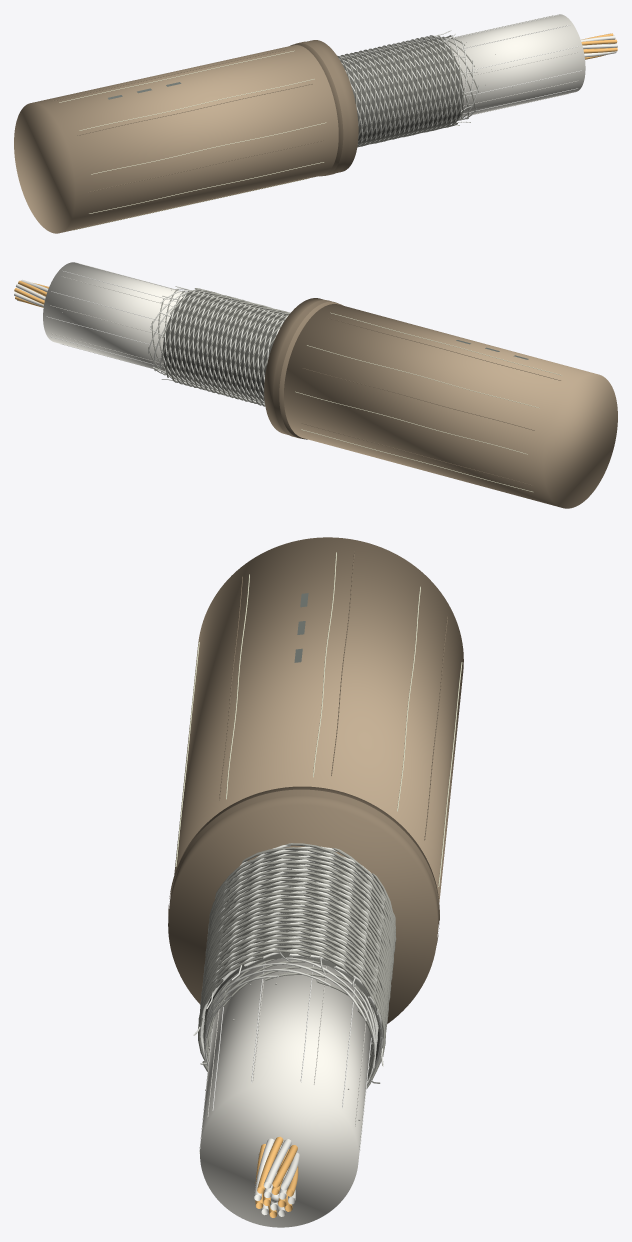
File: rf-rg142-macro.glb
3 renders of one model, top to bottom at view 1: azimuth 30°, elevation 25°; view 2: azimuth 150°, elevation 25°; view 3: azimuth 270°, elevation 25°, orthographic. The views are drawn at different scales.
Parts seen in each view (by area): view 1: macro jacket body, macro dielectric exposed core, shadow seen through braid windows, thick jacket cut wall, rounded jacket cut lip, macro braid shadow carrier 05 strand 1, macro braid shadow carrier 07 strand 1, macro braid shadow carrier 08 strand 1, macro braid shadow carrier 04 strand 1, macro braid shadow carrier 06 strand 1, macro braid shadow carrier 03 strand 1, macro braid shadow carrier 09 strand 1; view 2: macro jacket body, macro dielectric exposed core, shadow seen through braid windows, thick jacket cut wall, rounded jacket cut lip, macro braid shadow carrier 02 strand 1, macro braid shadow carrier 03 strand 1, macro braid shadow carrier 01 strand 1, macro braid shadow carrier 12 strand 1, macro braid shadow carrier 04 strand 1, macro braid shadow carrier 05 strand 1; view 3: macro jacket body, macro dielectric exposed core, thick jacket cut wall, shadow seen through braid windows, rounded jacket cut lip, macro braid shadow carrier 10 strand 2, macro braid shadow carrier 05 strand 2, macro braid shadow carrier 04 strand 2, macro braid shadow carrier 07 strand 2, macro braid shadow carrier 06 strand 2, macro braid shadow carrier 08 strand 2, macro braid shadow carrier 11 strand 2 (+5 smaller).
Boxes of the visible parts, left/top/right/bottom form: macro jacket body: left=14, top=45, right=338, bottom=233; macro dielectric exposed core: left=443, top=14, right=585, bottom=116; shadow seen through braid windows: left=339, top=37, right=463, bottom=144; thick jacket cut wall: left=290, top=40, right=358, bottom=176; rounded jacket cut lip: left=295, top=41, right=349, bottom=175; macro braid shadow carrier 05 strand 1: left=357, top=37, right=436, bottom=147; macro braid shadow carrier 07 strand 1: left=358, top=35, right=446, bottom=145; macro braid shadow carrier 08 strand 1: left=370, top=35, right=451, bottom=144; macro braid shadow carrier 04 strand 1: left=357, top=38, right=432, bottom=146; macro braid shadow carrier 06 strand 1: left=360, top=36, right=441, bottom=146; macro braid shadow carrier 03 strand 1: left=354, top=40, right=427, bottom=143; macro braid shadow carrier 09 strand 1: left=376, top=46, right=455, bottom=142; macro jacket body: left=284, top=304, right=617, bottom=508; macro dielectric exposed core: left=43, top=262, right=185, bottom=371; shadow seen through braid windows: left=163, top=291, right=286, bottom=403; thick jacket cut wall: left=264, top=298, right=343, bottom=439; rounded jacket cut lip: left=273, top=300, right=337, bottom=438; macro braid shadow carrier 02 strand 1: left=175, top=296, right=288, bottom=399; macro braid shadow carrier 03 strand 1: left=170, top=295, right=285, bottom=397; macro braid shadow carrier 01 strand 1: left=180, top=298, right=289, bottom=400; macro braid shadow carrier 12 strand 1: left=184, top=299, right=288, bottom=401; macro braid shadow carrier 04 strand 1: left=166, top=294, right=287, bottom=396; macro braid shadow carrier 05 strand 1: left=161, top=293, right=277, bottom=394; macro jacket body: left=174, top=537, right=463, bottom=901; macro dielectric exposed core: left=200, top=958, right=370, bottom=1227; thick jacket cut wall: left=168, top=786, right=439, bottom=1023; shadow seen through braid windows: left=203, top=849, right=380, bottom=1063; rounded jacket cut lip: left=168, top=789, right=439, bottom=944; macro braid shadow carrier 10 strand 2: left=199, top=851, right=393, bottom=1021; macro braid shadow carrier 05 strand 2: left=200, top=883, right=395, bottom=1055; macro braid shadow carrier 04 strand 2: left=201, top=878, right=390, bottom=1088; macro braid shadow carrier 07 strand 2: left=201, top=848, right=395, bottom=1003; macro braid shadow carrier 06 strand 2: left=203, top=873, right=396, bottom=1011; macro braid shadow carrier 08 strand 2: left=200, top=843, right=394, bottom=1011; macro braid shadow carrier 11 strand 2: left=198, top=856, right=393, bottom=1061.
Bounding box in the file's own units: 6.45 × 1.36 × 1.48.
